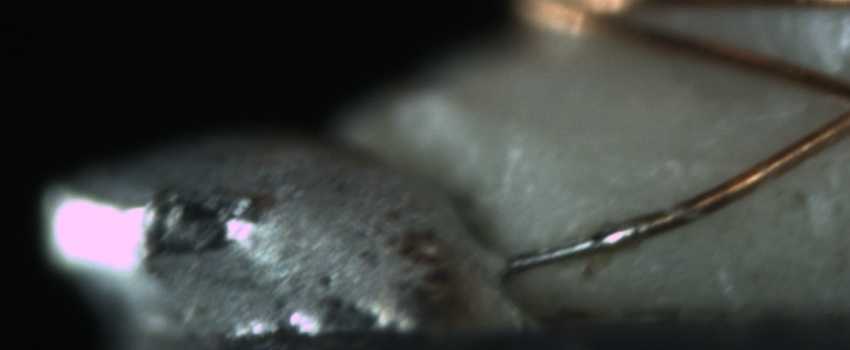TS: (508, 220, 646, 268)
TTCW: (509, 199, 695, 275)
